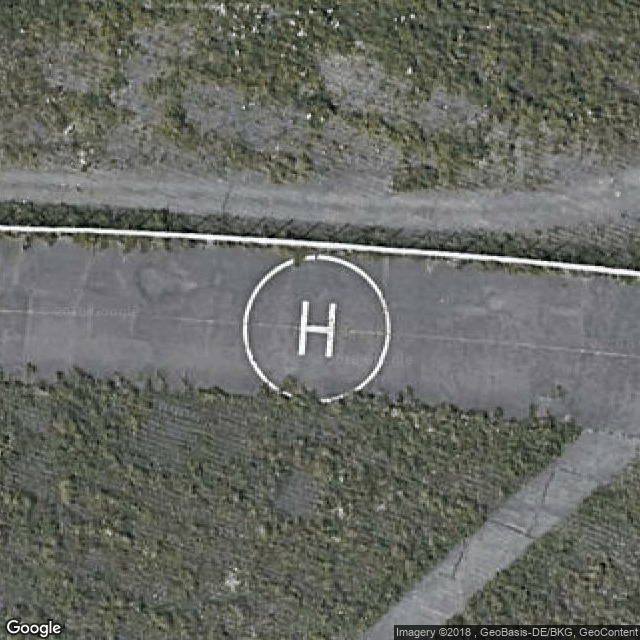heliport: (293, 292, 345, 361)
